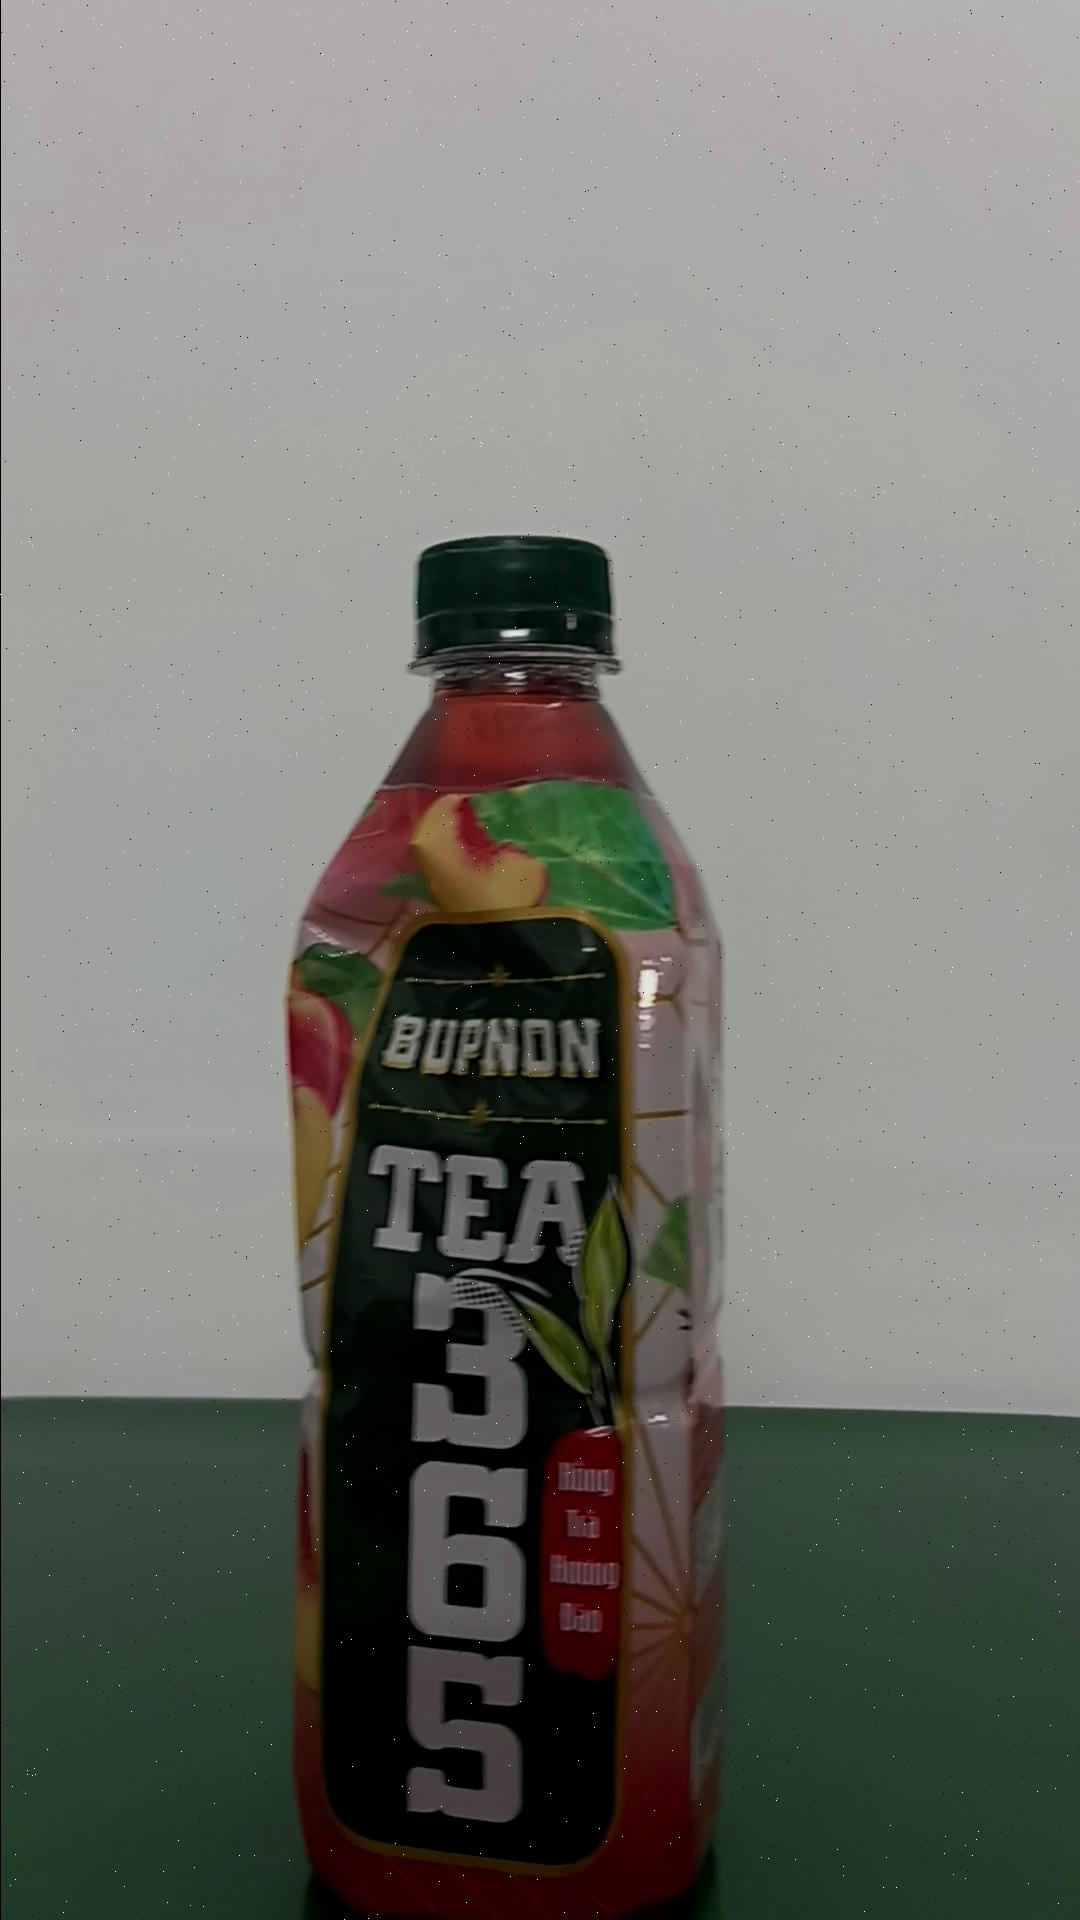loi meo sp: (284, 531, 731, 1915)
